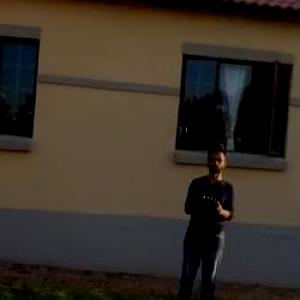follow: (166, 139, 236, 299)
